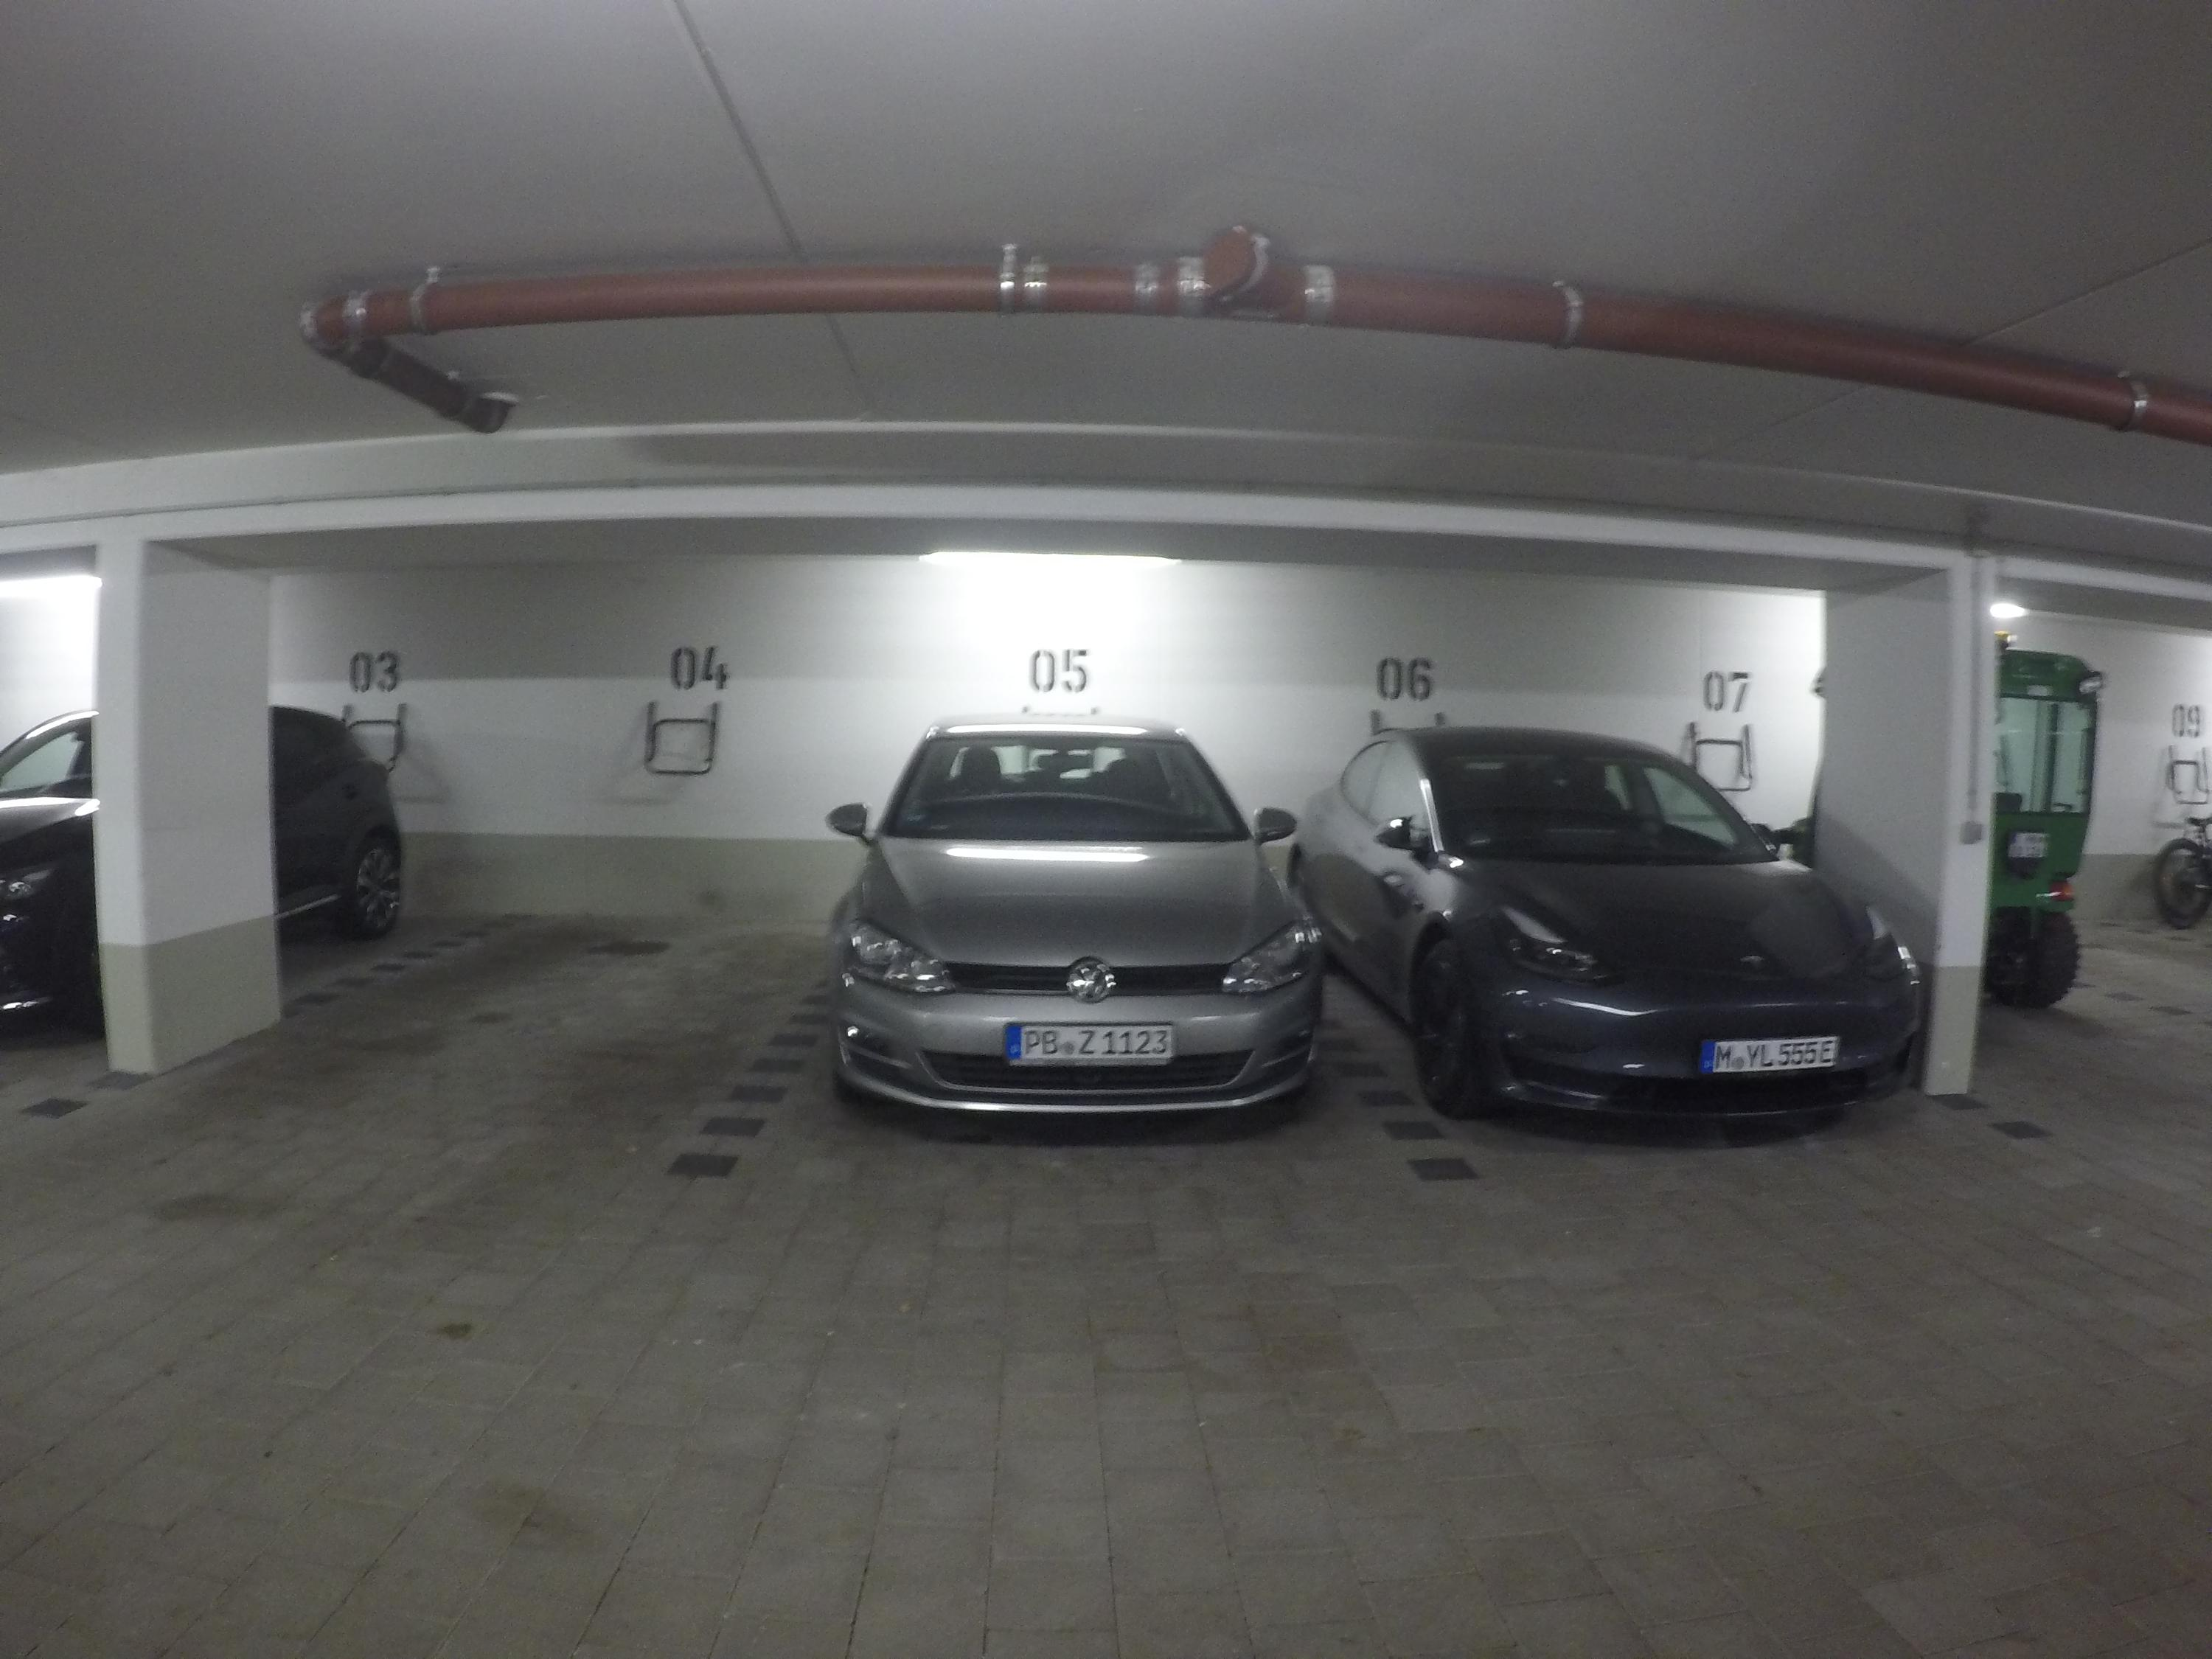1: (1118, 1030, 1133, 1055), (1102, 1030, 1117, 1054)
2: (1135, 1030, 1150, 1054)
3: (1152, 1029, 1167, 1054)
5: (1804, 1041, 1818, 1064), (1778, 1043, 1790, 1066), (1792, 1042, 1804, 1065)
B: (1041, 1029, 1059, 1055)
C: (0, 545, 122, 800)
E: (1820, 1040, 1833, 1064)
L: (1760, 1043, 1773, 1067)
M: (1714, 1045, 1731, 1069)
P: (1023, 1029, 1041, 1056)
Y: (1745, 1043, 1759, 1067)
Z: (1078, 1029, 1095, 1054)
